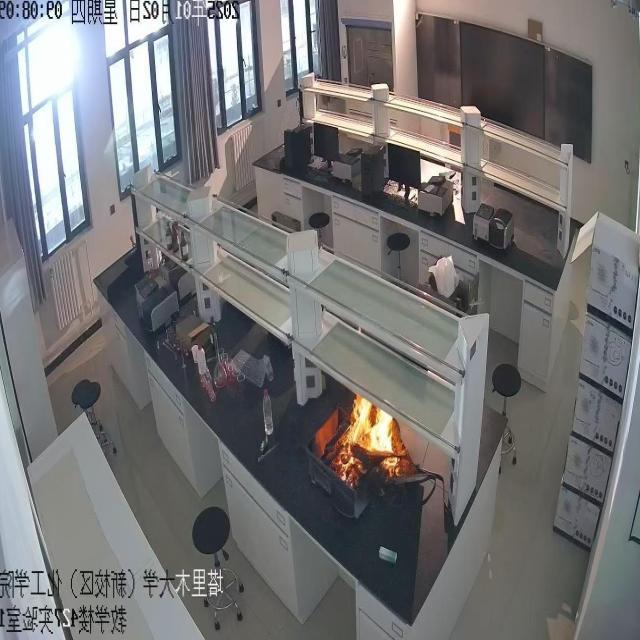smoke: (336, 389, 410, 479)
